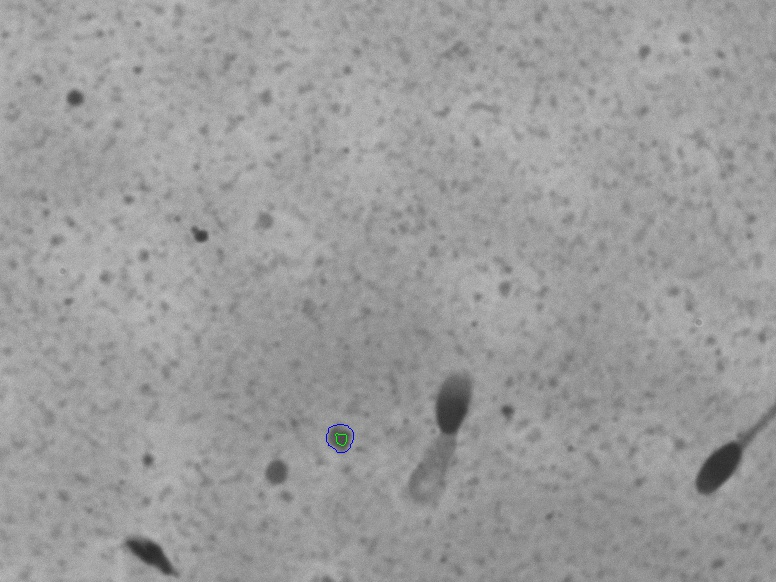Abnormal: (372, 337, 503, 534)
